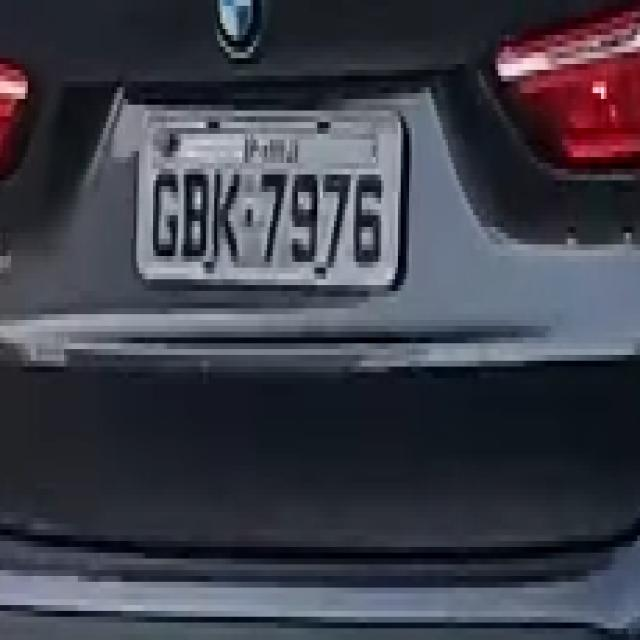Placa_mercosul_carro: (135, 106, 404, 286)
